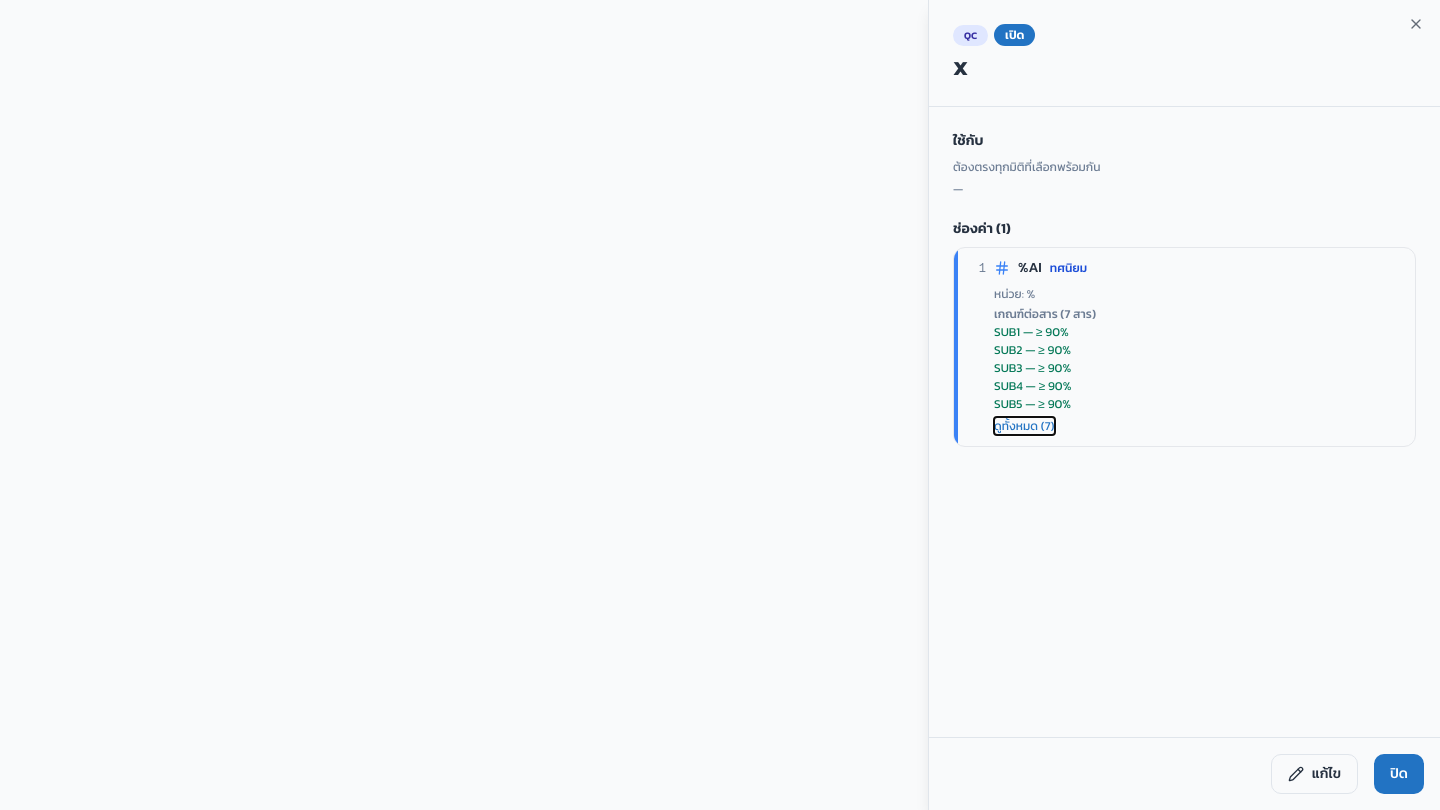
Scenario: ParameterDetailDrawer › เกณฑ์ต่อสาร 7 สาร: เห็น 5 + ดูทั้งหมด (7) → กดแล้วครบ + ปุ่มเป็น ย่อ
expect the text "เกณฑ์ต่อสาร (7 สาร)" is shown: met, box x1=994 y1=305 x2=1096 y2=323
expect the text "SUB5 — ≥ 90%" is shown: met, box x1=994 y1=395 x2=1071 y2=413
Click the button "ดูทั้งหมด (7)" at (1024, 426), box x1=994 y1=418 x2=1054 y2=434
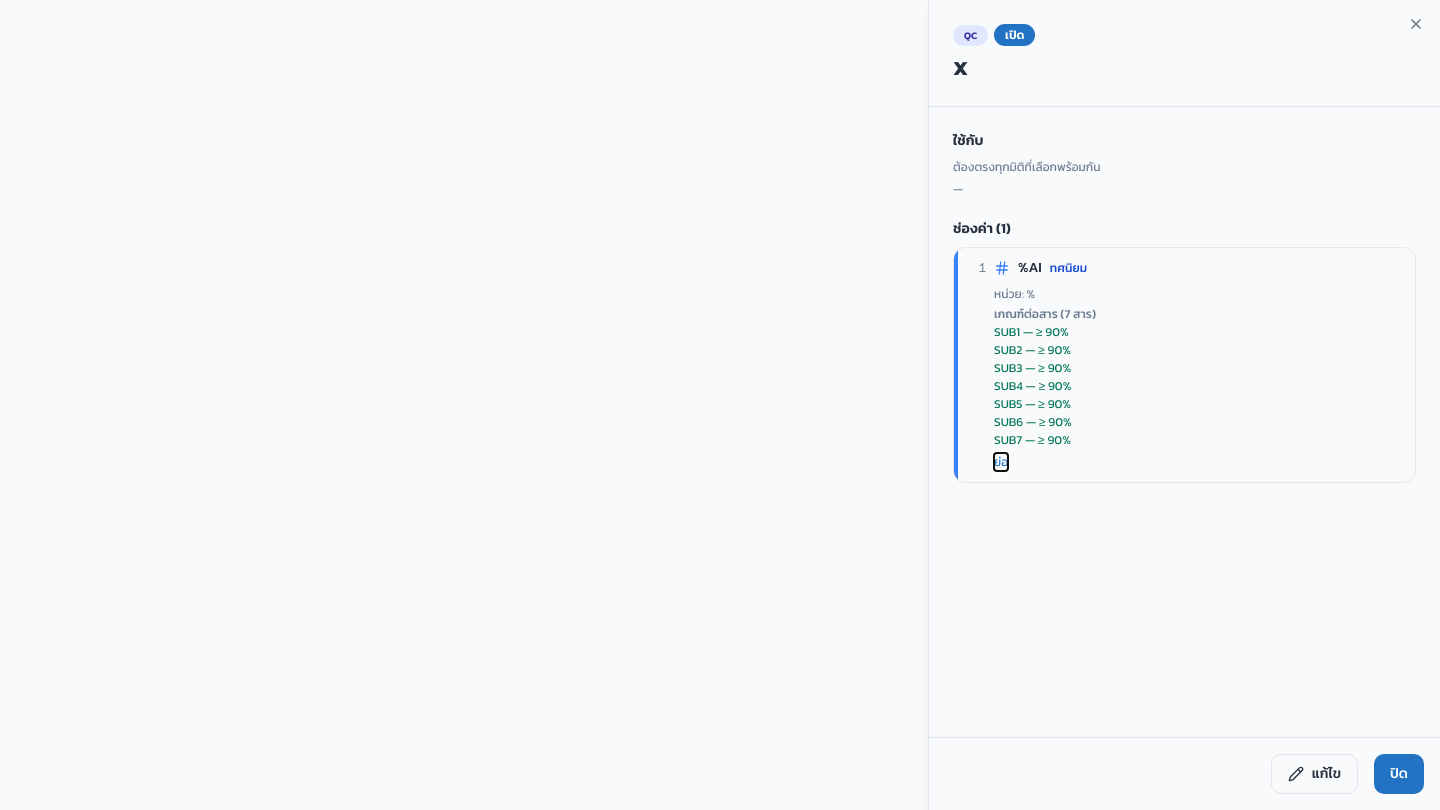
expect the text "SUB7 — ≥ 90%" is shown: met, box x1=994 y1=431 x2=1071 y2=449
expect the button "ย่อ" is shown: met, box x1=994 y1=454 x2=1008 y2=470
